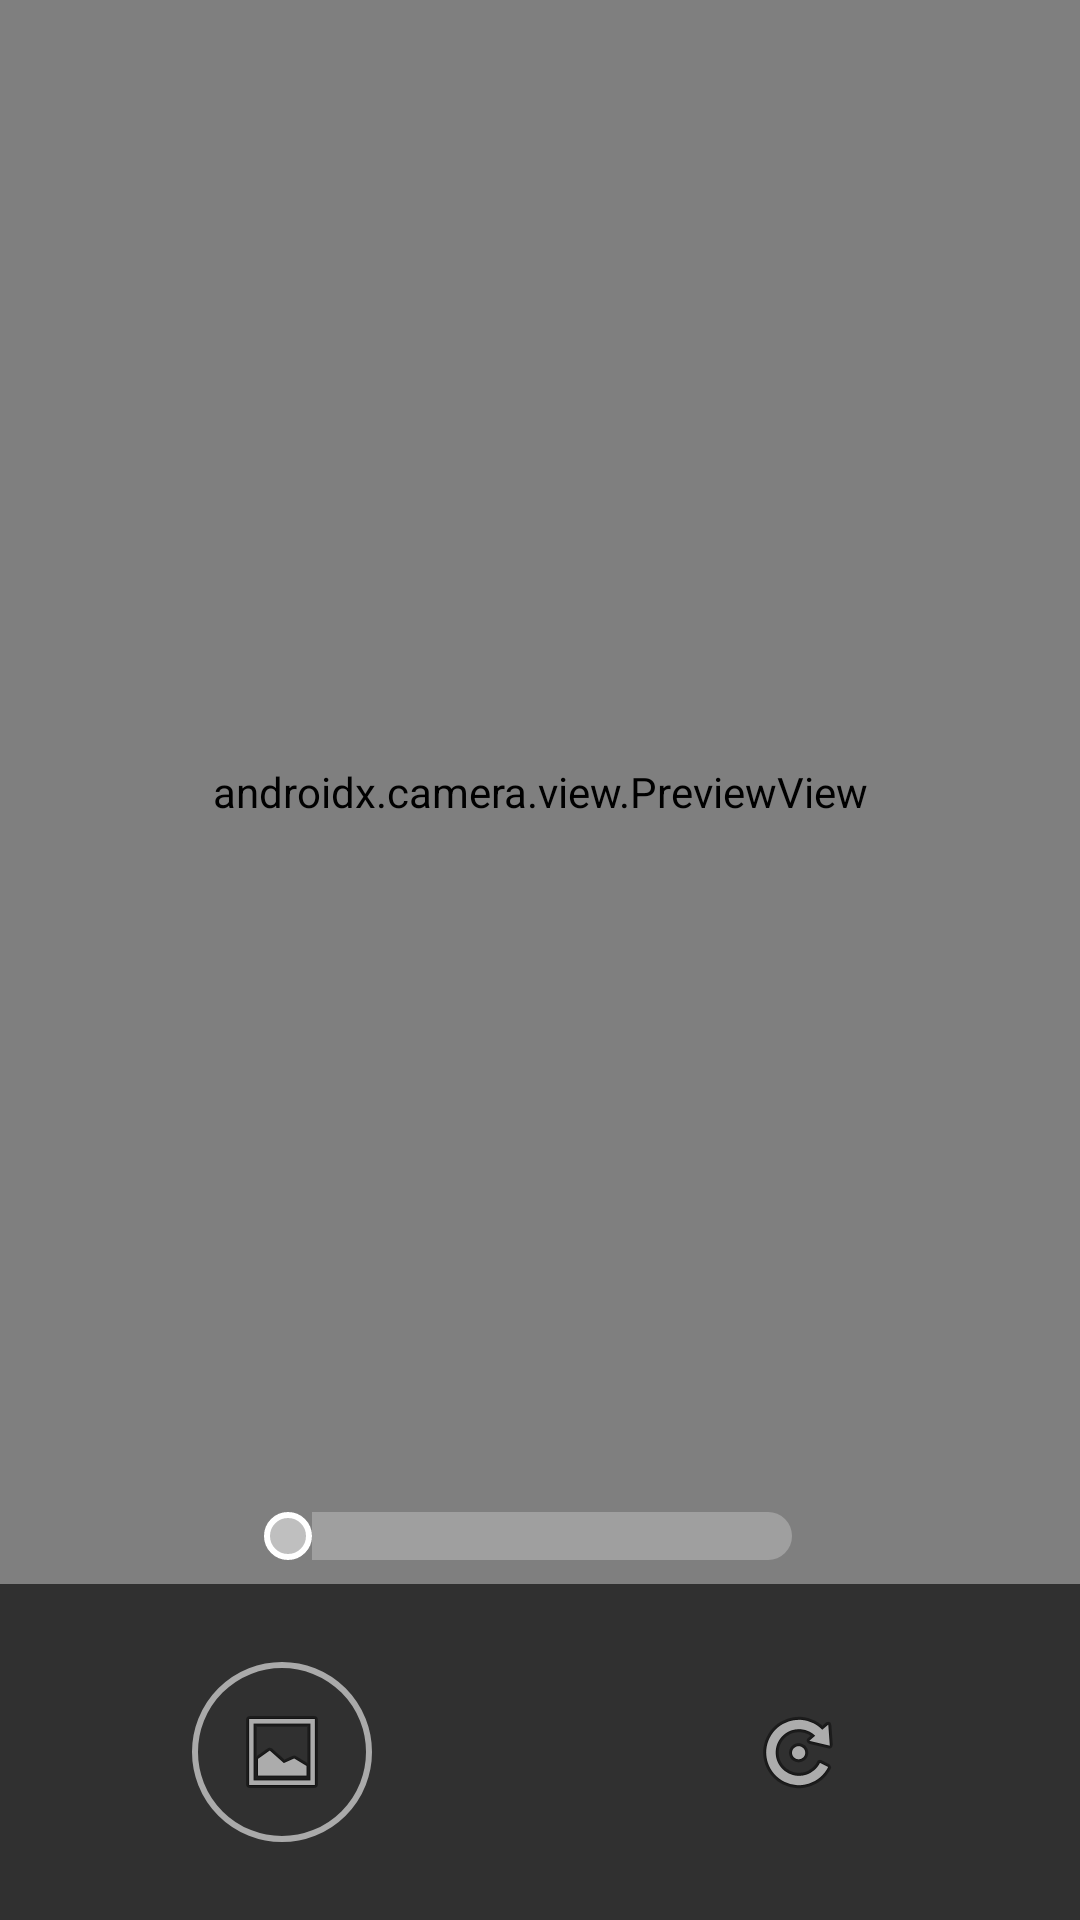

Icons on this 1080w x 1920h Android screen, each with its box as (x1, y1, x2, y2):
Галерея: (192, 1662, 372, 1842)
Переключить камеру: (765, 1719, 831, 1786)
